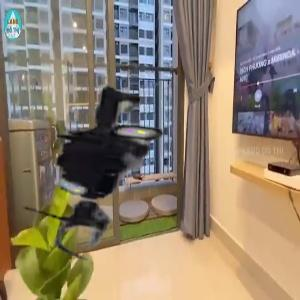drone: (3, 52, 226, 275)
